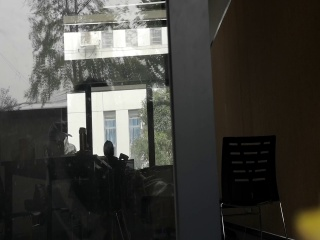room: (6, 5, 305, 230)
